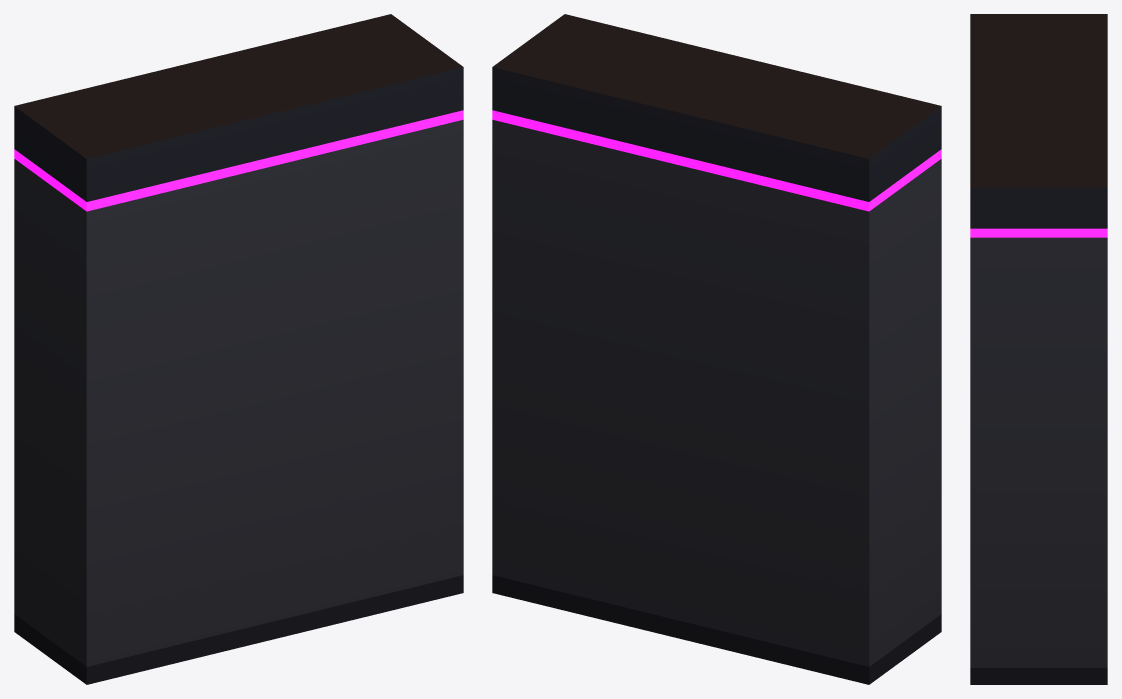
The model's file is WallStraight3.fbx.
3 renders of one model, left to right at view 1: azimuth 30°, elevation 25°; view 2: azimuth 150°, elevation 25°; view 3: azimuth 270°, elevation 25°, orthographic. The views are drawn at different scales.
Parts seen in each view (by area): view 1: WallStraight3; view 2: WallStraight3; view 3: WallStraight3.
Boxes of the visible parts, <box> form: WallStraight3: <box>14,14,463,684</box>; WallStraight3: <box>492,14,941,684</box>; WallStraight3: <box>970,14,1107,684</box>.
Bounding box in the file's own units: 300 × 400 × 100.
